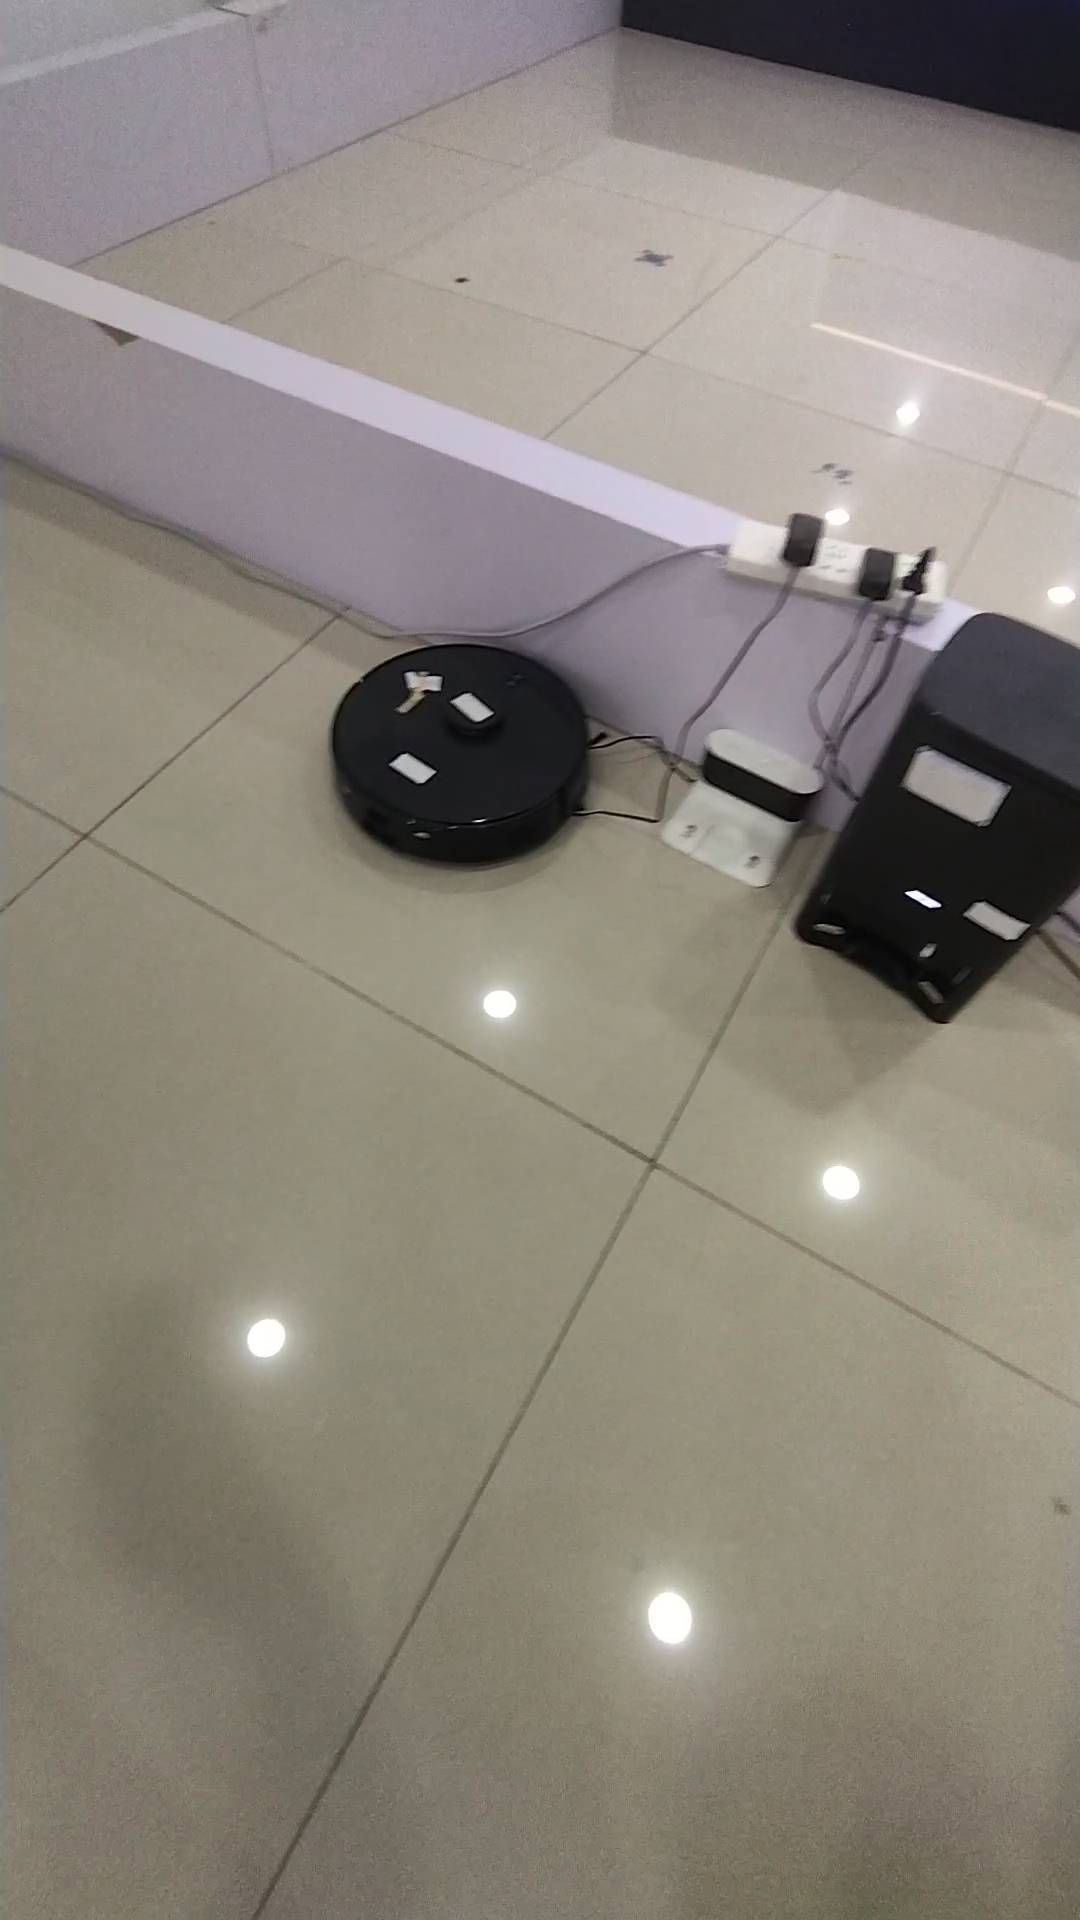dust collecting barrel: (798, 615, 1080, 1029)
recharge seat: (657, 728, 825, 889)
